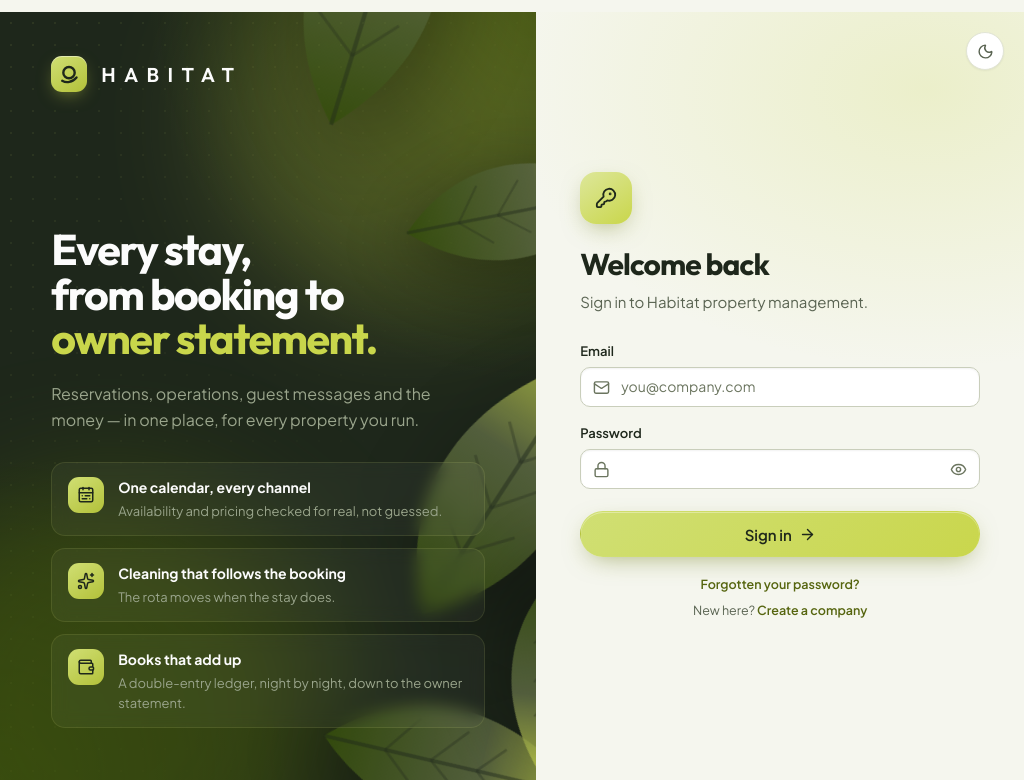
signing in › shows a validation message against the field it belongs to
Type "not-an-email" into the field labelled "Email" at (780, 387), box [580,367,980,407]
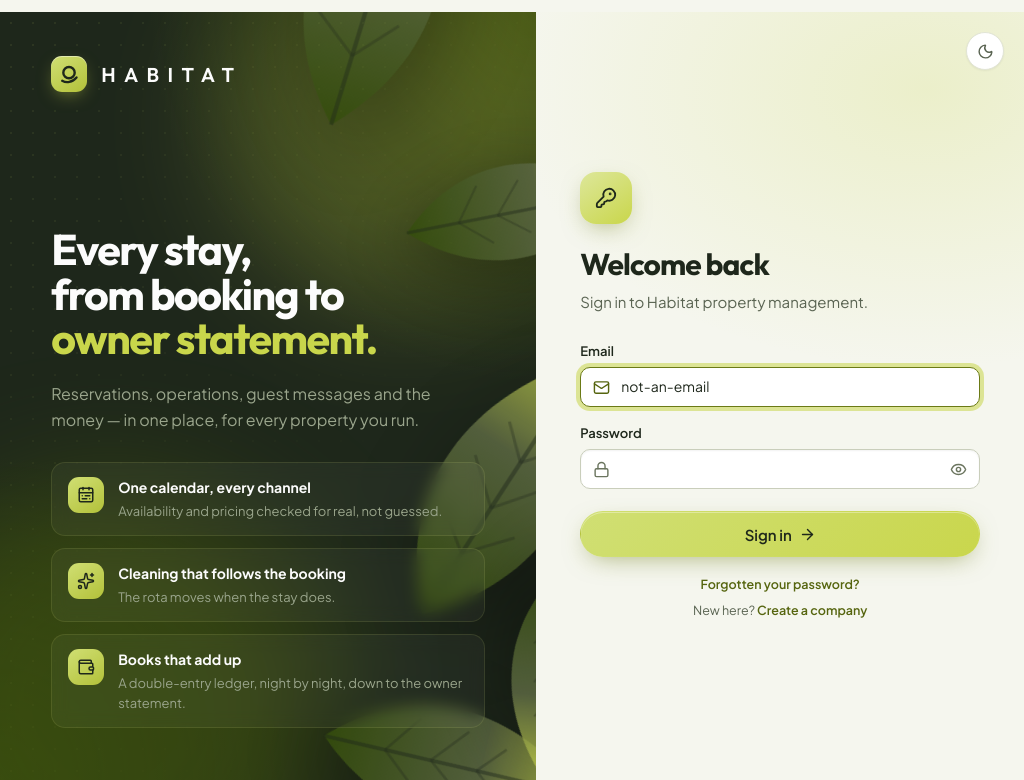
Type "correct-horse" into the password field labelled "Password" at (780, 469), box [580,449,980,489]
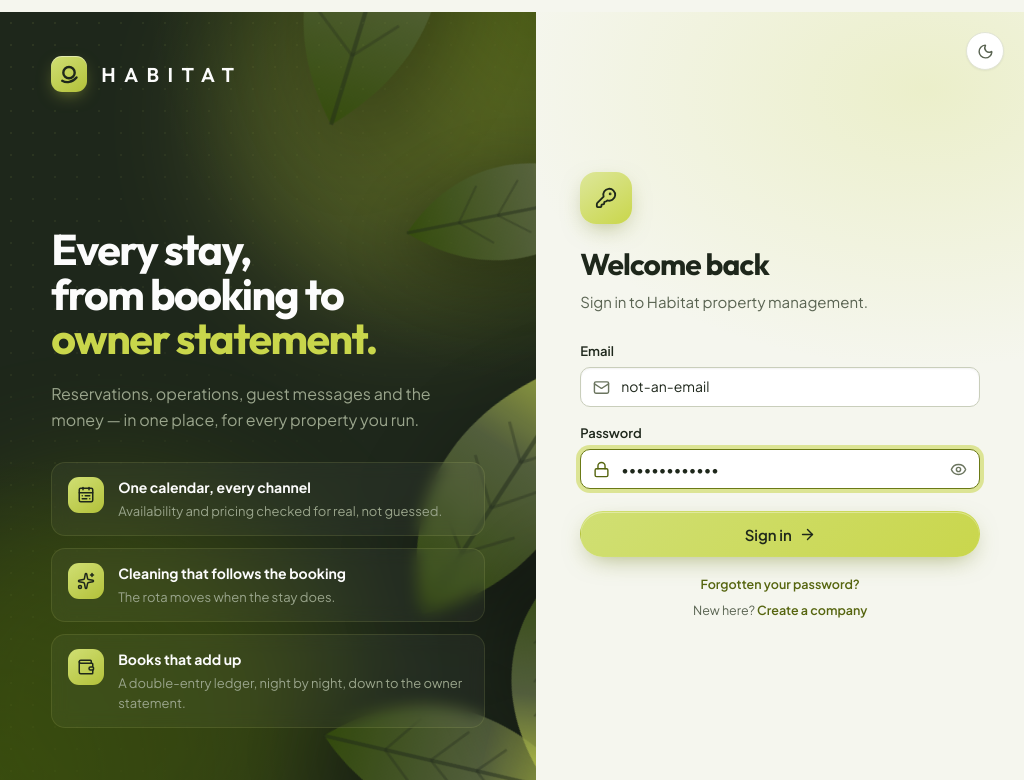
Click the button "Sign in" at (780, 534), box [580,511,980,557]
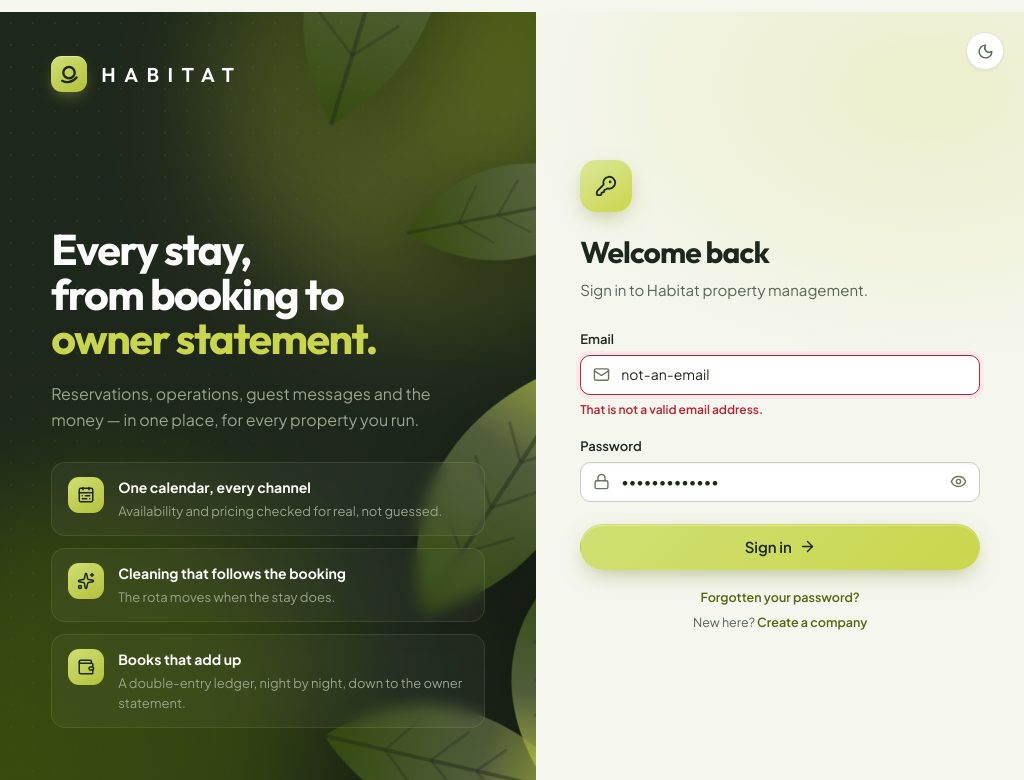
expect the text "That is not a valid email address." is shown: met, box [580,402,763,417]
